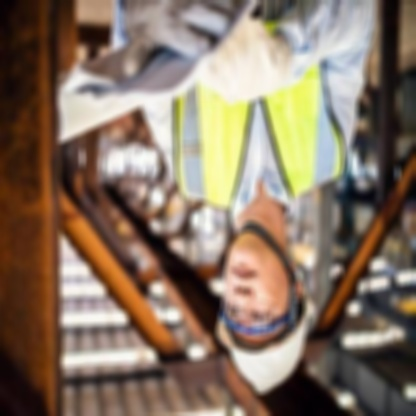vest: (167, 55, 348, 208)
white: (207, 312, 313, 399)
